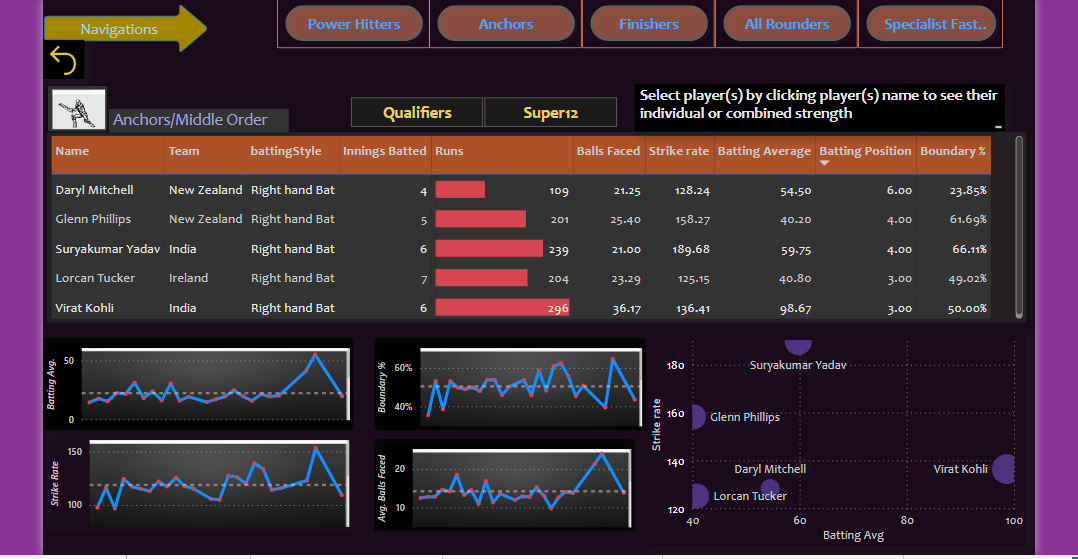

What the dashboard file says about the page in this screenshot:
{"tool":"powerbi","page":{"name":"New Anchors/Middle Order","canvas":[1280,720],"ordinal":1},"visuals":[{"type":"tableEx","fields":{"Values":["dim_players.name","dim_players.team","dim_players.battingStyle","Key_Measures (2).Total Innings Batted","Key_Measures (2).Total_Runs","Key_Measures (2).Avg. balls Faced","Key_Measures (2).Strike rate","Key_Measures (2).Batting Avg","Key_Measures (2).Batting Position","Key_Measures (2).Boundary %"]},"box":[5.7,174.3,1264.3,245.7],"z":0},{"type":"scatterChart","fields":{"X":["Key_Measures (2).Batting Avg"],"Y":["Key_Measures (2).Strike rate"],"Category":["dim_players.name"],"Size":["Key_Measures (2).Total_Runs"]},"box":[778.1,429.4,491.8,279.2],"z":1000},{"type":"lineChart","title":"Batting Avg Vs MatchDate","fields":{"Category":["dim_match_summary.matchDate"],"Y":["Key_Measures (2).Batting Avg"]},"box":[0,439.4,401.1,119.1],"z":2000},{"type":"lineChart","title":"Avg. Balls Faced Vs MatchDate","fields":{"Category":["dim_match_summary.matchDate"],"Y":["Key_Measures (2).Avg. balls Faced"]},"box":[426.6,569.8,337.3,119.1],"z":3000},{"type":"lineChart","title":"Strike Rate Vs Match Date","fields":{"Category":["dim_match_summary.matchDate"],"Y":["Key_Measures (2).Strike rate"]},"box":[5.7,558.4,395.4,130.4],"z":4000},{"type":"lineChart","title":"Batting Avg Vs MatchDate","fields":{"Category":["dim_match_summary.matchDate"],"Y":["Key_Measures (2).Boundary %"]},"box":[426.6,439.4,351.5,119.1],"z":5000},{"type":"textbox","title":"Anchors/Middle Order","box":[85,144.6,232.4,29.8],"z":6000},{"type":"image","box":[5.7,113.4,79.4,60.9],"z":7000},{"type":"shape","box":[1.4,7.1,212.9,65.7],"z":8000},{"type":"slicer","fields":{"Values":["dim_match_summary.Stage"]},"box":[371.4,122.9,392.9,51.4],"z":9000},{"type":"textbox","title":"Select player(s) by clicking player(s) name to see their individual or combined strength","box":[764.3,112.9,477.1,61.4],"z":10000},{"type":"actionButton","box":[0,55.7,52.9,50],"z":11000},{"type":"actionButton","box":[301.4,0,197.1,65.7],"z":12000},{"type":"actionButton","box":[695.7,0,171.4,65.7],"z":13000},{"type":"actionButton","box":[498.6,0,197.1,65.7],"z":14000},{"type":"actionButton","box":[867.1,0,184.3,65.7],"z":15000},{"type":"actionButton","box":[1051.4,0,187.1,65.7],"z":16000}]}

Visuals, with their boxes on the page's 1280x720 design canvas (x1, y1, x2, y2). These are canvas units, not pixel positions in the 1078x559 screenshot, which may show the page scaled, cropped or inside an application window:
tableEx - dim_players.name x dim_players.team: 6, 174, 1270, 420
scatterChart - Key_Measures (2).Batting Avg x Key_Measures (2).Strike rate: 778, 429, 1270, 709
"Batting Avg Vs MatchDate" lineChart: 0, 439, 401, 558
"Avg. Balls Faced Vs MatchDate" lineChart: 427, 570, 764, 689
"Strike Rate Vs Match Date" lineChart: 6, 558, 401, 689
"Batting Avg Vs MatchDate" lineChart: 427, 439, 778, 558
"Anchors/Middle Order" textbox: 85, 145, 317, 174
image: 6, 113, 85, 174
shape: 1, 7, 214, 73
slicer - dim_match_summary.Stage: 371, 123, 764, 174
"Select player(s) by clicking player(s) name to see their individual or combined strength" textbox: 764, 113, 1241, 174
actionButton: 0, 56, 53, 106
actionButton: 301, 0, 498, 66
actionButton: 696, 0, 867, 66
actionButton: 499, 0, 696, 66
actionButton: 867, 0, 1051, 66
actionButton: 1051, 0, 1238, 66
